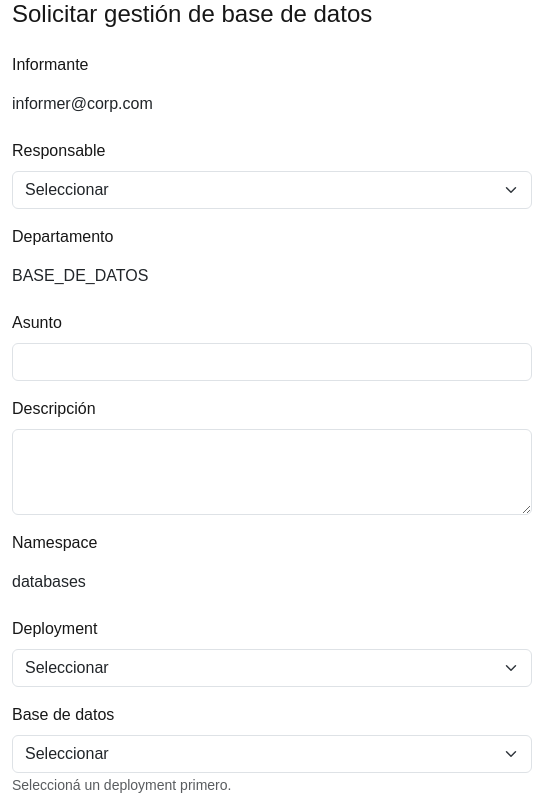
Scenario: DatabaseManagementTicketForm › shows a submitting label while the request is pending
The image size is (553, 800).
Select "Ana" in the dropdown labelled "Responsable". click: (272, 190)
box: x1=12 y1=171 x2=532 y2=209
Type "Add index" into the field labelled "Asunto". click: (272, 362)
box: x1=12 y1=343 x2=532 y2=381
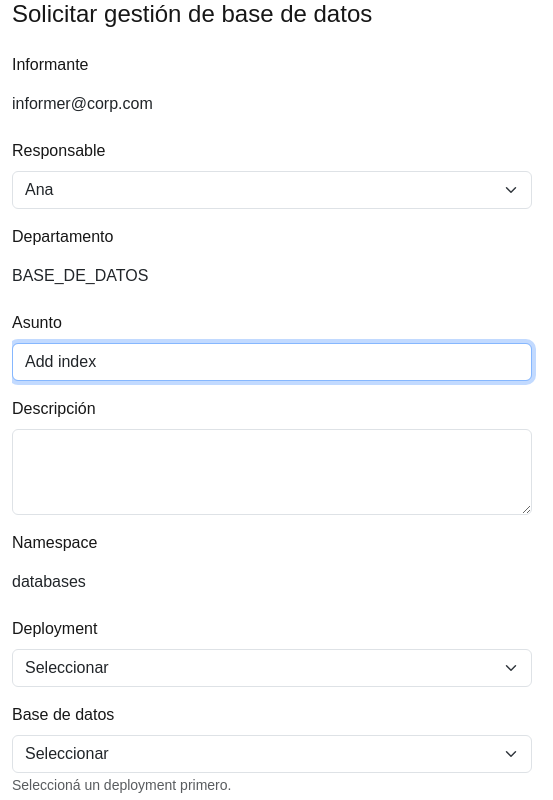
Type "Needs an index" into the text box labelled "Descripción". click: (272, 472)
box: x1=12 y1=429 x2=532 y2=515
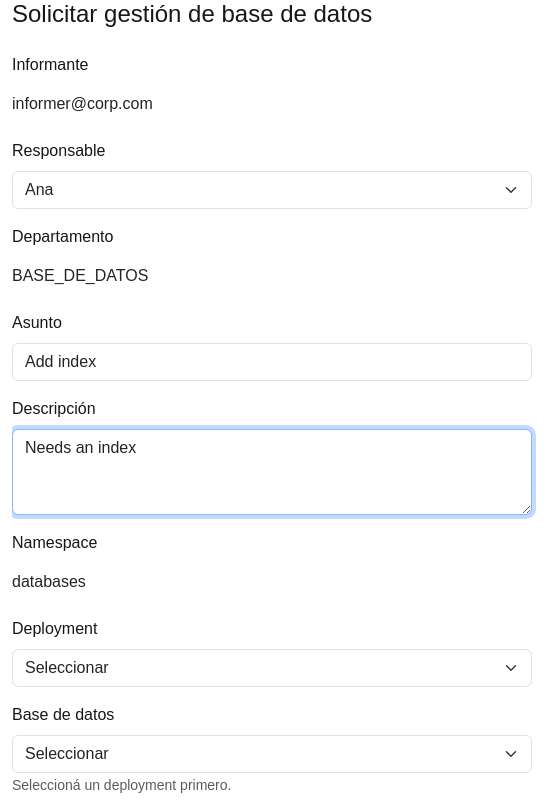
Select "pg-main" in the dropdown labelled "Deployment". click: (272, 668)
box: x1=12 y1=649 x2=532 y2=687
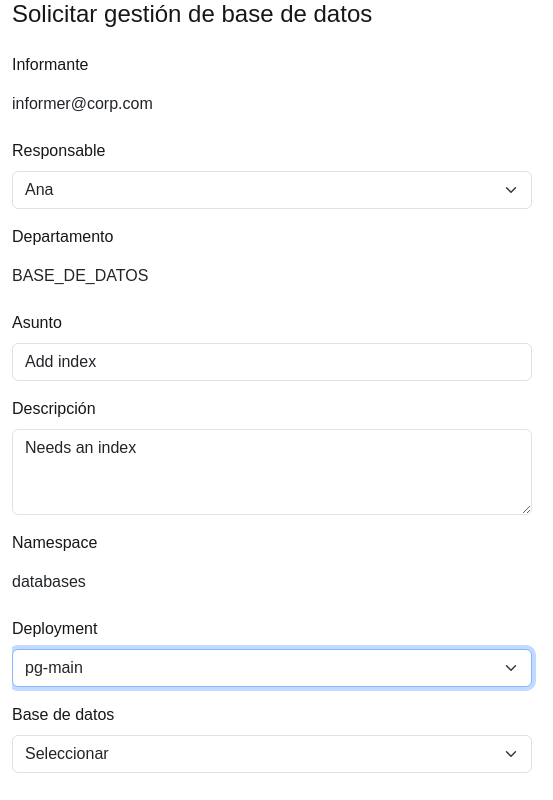
Select "orders" in the dropdown labelled "Base de datos". click: (272, 754)
box: x1=12 y1=735 x2=532 y2=773
(page scrolled)
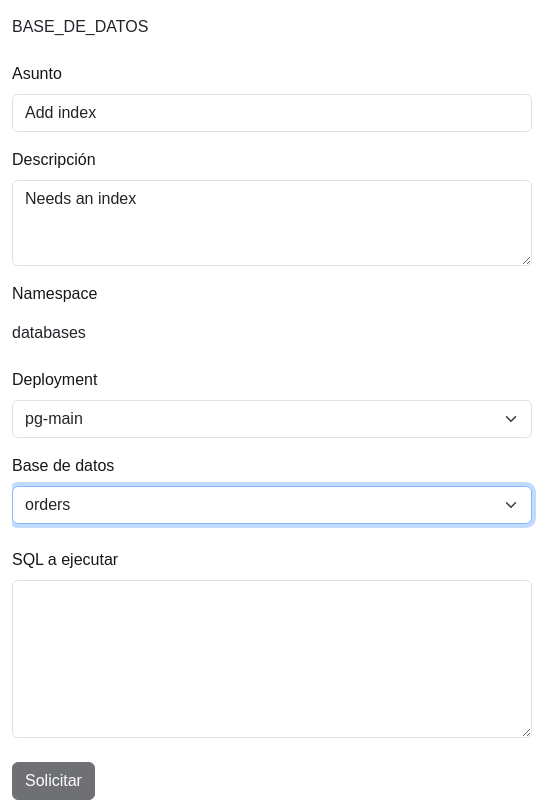
Type "select 1" into the text box labelled "SQL a ejecutar". click: (272, 659)
box: x1=12 y1=580 x2=532 y2=738
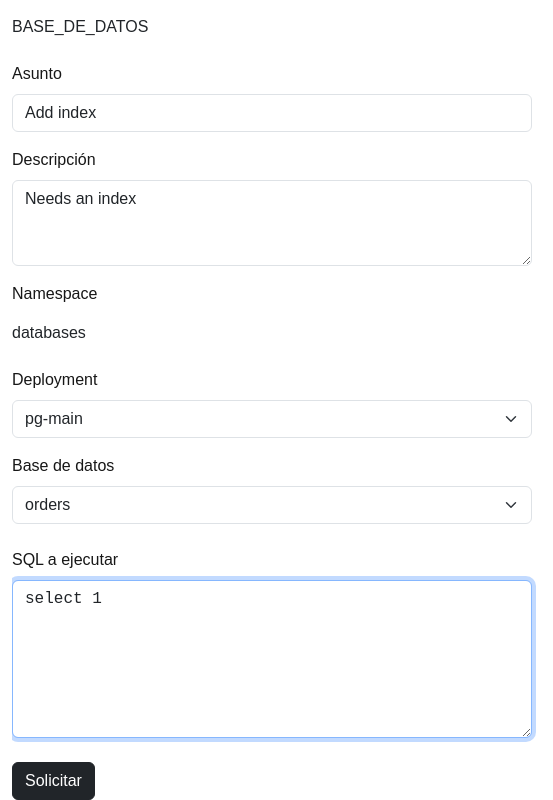
Click the button "Solicitar". click: (53, 781)
box: x1=12 y1=762 x2=95 y2=799
(page scrolled)
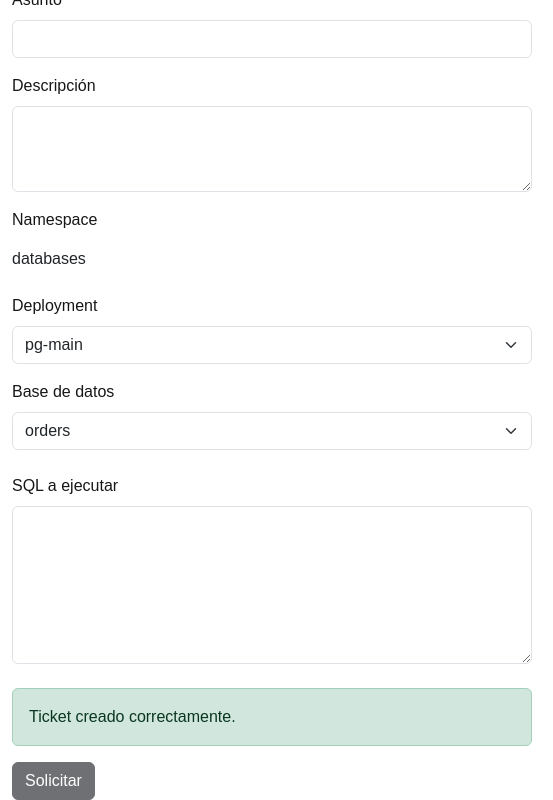
Expected: the button named "Enviando…" is disabled, x1=12 y1=762 x2=95 y2=799
